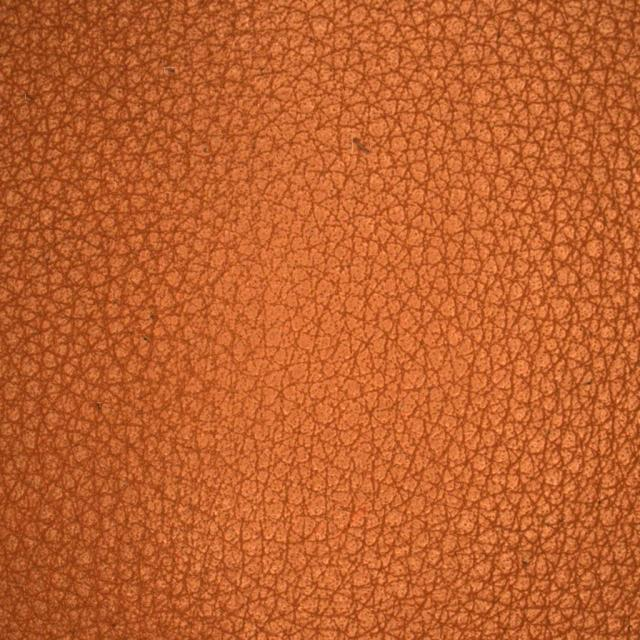Scratch: (250, 88, 471, 212)
